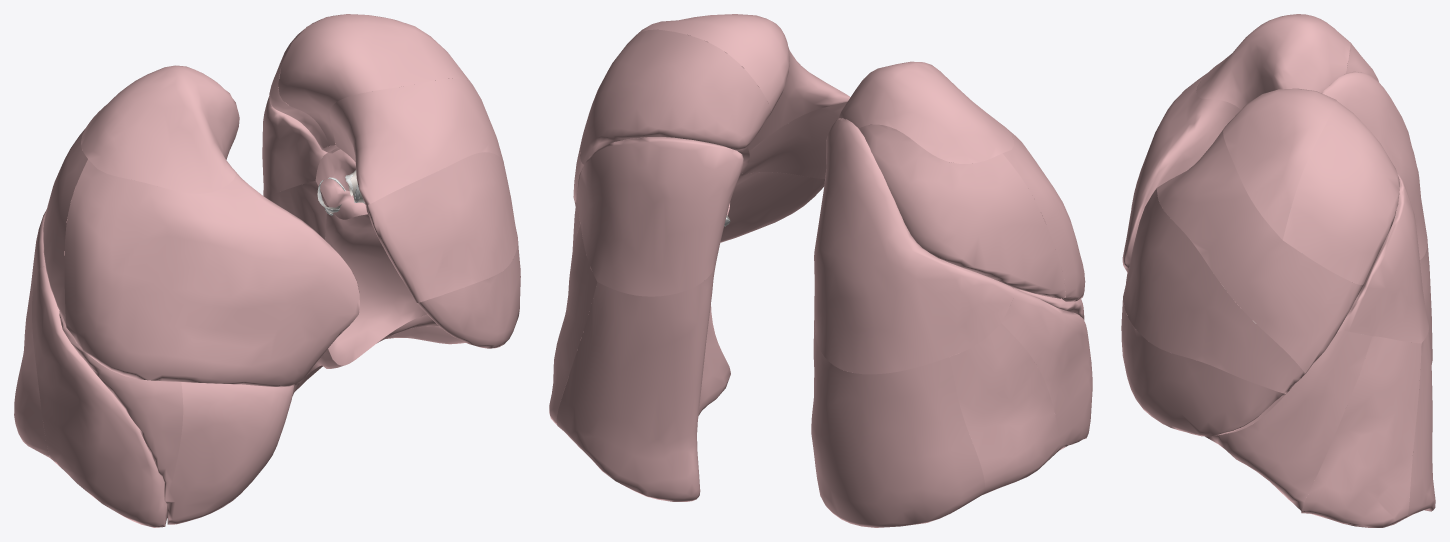
The model's file is 3d-vh-f-lung-40.fbx.
3 renders of one model, left to right at view 1: azimuth 30°, elevation 25°; view 2: azimuth 150°, elevation 25°; view 3: azimuth 270°, elevation 25°, orthographic. The views are drawn at different scales.
Parts seen in each view (by area): view 1: VH_F_right_anterior_bronchopulmonary_segm, VH_F_right_anterior_basal_bronchopulmonary_segment, VH_F_lingula_superior_bronchopulmonary_segment, VH_F_right_apical_bronchopulmonary_segment, VH_F_left_anterior_bronchopulmonary_segment, VH_F_left_apical_bronchopulmonary_segment, VH_F_right_medial_bronchopulmonary_segment, VH_F_left_medial_basal_bronchopulmonary_segment, VH_F_lingula_inferior_bronchopulmonary_segment, VH_F_right_lateral_bronchopulmonary_segmennt, VH_F_left_superior_bronchopulmonary_segment, VH_F_right_posterior_bronchopulmonary_segment (+6 smaller); view 2: VH_F_right_superior_bronchopulmonary_segment, VH_F_left_posterior_basal_bronchopulmonary_segment, VH_F_right_posterior_basal_bronchopulmonary_segment, VH_F_left_superior_bronchopulmonary_segment, VH_F_right_posterior_bronchopulmonary_segment, VH_F_left_posterior_bronchopulmonary_segment, VH_F_right_lateral_basal_bronchopulmonary_segment, VH_F_right_apical_bronchopulmonary_segment, VH_F_right_anterior_basal_bronchopulmonary_segment, VH_F_left_apical_bronchopulmonary_segment, VH_F_lingula_inferior_bronchopulmonary_segment, VH_F_lingula_superior_bronchopulmonary_segment (+3 smaller); view 3: VH_F_left_anterior_bronchopulmonary_segment, VH_F_lingula_superior_bronchopulmonary_segment, VH_F_left_lateral_basal_bronchopulmonary_segment, VH_F_left_posterior_bronchopulmonary_segment, VH_F_left_anterior_basal_bronchopulmonary_segment, VH_F_lingula_inferior_bronchopulmonary_segment, VH_F_left_apical_bronchopulmonary_segment, VH_F_right_apical_bronchopulmonary_segment, VH_F_left_superior_bronchopulmonary_segment, VH_F_right_anterior_bronchopulmonary_segm, VH_F_right_superior_bronchopulmonary_segment, VH_F_left_posterior_basal_bronchopulmonary_segment (+2 smaller).
Part boxes in pixels (x1=…): VH_F_right_anterior_bronchopulmonary_segm: x1=64, y1=159, x2=359, y2=387; VH_F_right_anterior_basal_bronchopulmonary_segment: x1=32, y1=266, x2=167, y2=527; VH_F_lingula_superior_bronchopulmonary_segment: x1=365, y1=152, x2=517, y2=302; VH_F_right_apical_bronchopulmonary_segment: x1=81, y1=65, x2=239, y2=193; VH_F_left_anterior_bronchopulmonary_segment: x1=329, y1=78, x2=503, y2=204; VH_F_left_apical_bronchopulmonary_segment: x1=278, y1=14, x2=470, y2=145; VH_F_right_medial_bronchopulmonary_segment: x1=164, y1=382, x2=293, y2=524; VH_F_left_medial_basal_bronchopulmonary_segment: x1=325, y1=205, x2=426, y2=365; VH_F_lingula_inferior_bronchopulmonary_segment: x1=417, y1=241, x2=520, y2=348; VH_F_right_lateral_bronchopulmonary_segmennt: x1=59, y1=311, x2=183, y2=500; VH_F_left_superior_bronchopulmonary_segment: x1=262, y1=87, x2=327, y2=197; VH_F_right_posterior_bronchopulmonary_segment: x1=43, y1=128, x2=87, y2=325; VH_F_right_superior_bronchopulmonary_segment: x1=814, y1=118, x2=1014, y2=374; VH_F_left_posterior_basal_bronchopulmonary_segment: x1=556, y1=264, x2=730, y2=501; VH_F_right_posterior_basal_bronchopulmonary_segment: x1=811, y1=324, x2=984, y2=527; VH_F_left_superior_bronchopulmonary_segment: x1=576, y1=137, x2=743, y2=296; VH_F_right_posterior_bronchopulmonary_segment: x1=859, y1=124, x2=1065, y2=298; VH_F_left_posterior_bronchopulmonary_segment: x1=580, y1=29, x2=770, y2=164; VH_F_right_lateral_basal_bronchopulmonary_segment: x1=950, y1=323, x2=1060, y2=494; VH_F_right_apical_bronchopulmonary_segment: x1=838, y1=61, x2=1013, y2=163; VH_F_right_anterior_basal_bronchopulmonary_segment: x1=1001, y1=288, x2=1092, y2=450; VH_F_left_apical_bronchopulmonary_segment: x1=635, y1=14, x2=789, y2=114; VH_F_lingula_inferior_bronchopulmonary_segment: x1=720, y1=172, x2=824, y2=242; VH_F_lingula_superior_bronchopulmonary_segment: x1=740, y1=66, x2=847, y2=178; VH_F_left_anterior_bronchopulmonary_segment: x1=1156, y1=129, x2=1363, y2=373; VH_F_lingula_superior_bronchopulmonary_segment: x1=1123, y1=188, x2=1305, y2=393; VH_F_left_lateral_basal_bronchopulmonary_segment: x1=1301, y1=336, x2=1421, y2=527; VH_F_left_posterior_bronchopulmonary_segment: x1=1283, y1=100, x2=1399, y2=284; VH_F_left_anterior_basal_bronchopulmonary_segment: x1=1205, y1=330, x2=1372, y2=512; VH_F_lingula_inferior_bronchopulmonary_segment: x1=1121, y1=300, x2=1285, y2=436; VH_F_left_apical_bronchopulmonary_segment: x1=1223, y1=88, x2=1336, y2=239; VH_F_right_apical_bronchopulmonary_segment: x1=1196, y1=14, x2=1350, y2=109; VH_F_left_superior_bronchopulmonary_segment: x1=1337, y1=174, x2=1428, y2=343; VH_F_right_anterior_bronchopulmonary_segm: x1=1122, y1=73, x2=1240, y2=273; VH_F_right_superior_bronchopulmonary_segment: x1=1321, y1=71, x2=1427, y2=259; VH_F_left_posterior_basal_bronchopulmonary_segment: x1=1407, y1=329, x2=1435, y2=517.
Size of the model in its own units: 25.12 by 22.31 by 15.26.
